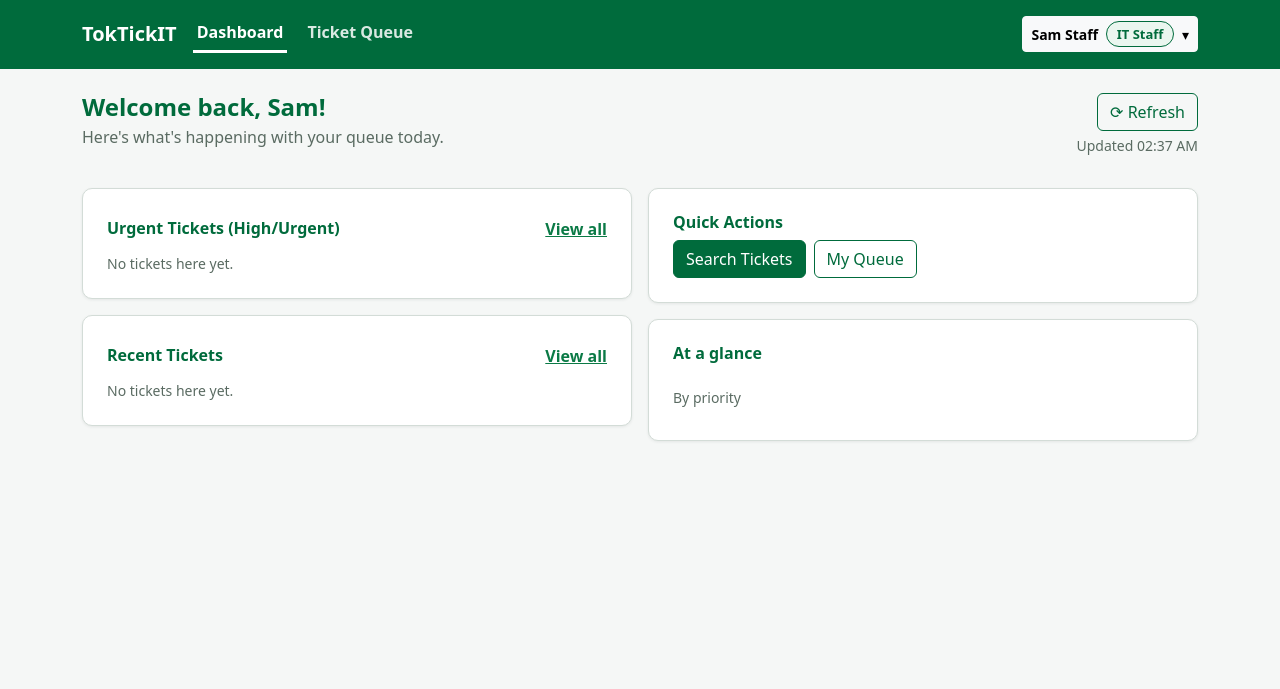
UI-27 — ownership controls (AC-34–AC-37) › claims the ticket and reflects the new owner
Click the button "Ticket Queue" at point(360, 34), box top-left (303, 16), bottom-right (417, 53)
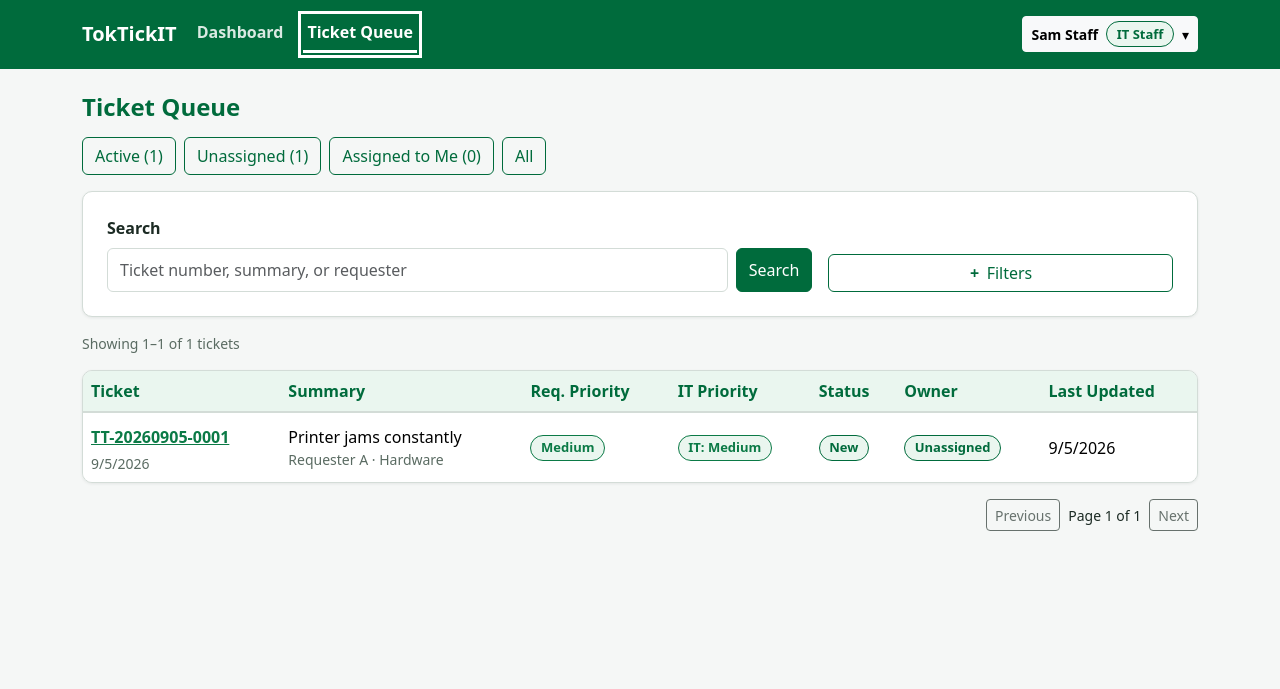
Click the button "TT-20260905-0001" at point(160, 437), box top-left (91, 421), bottom-right (229, 453)
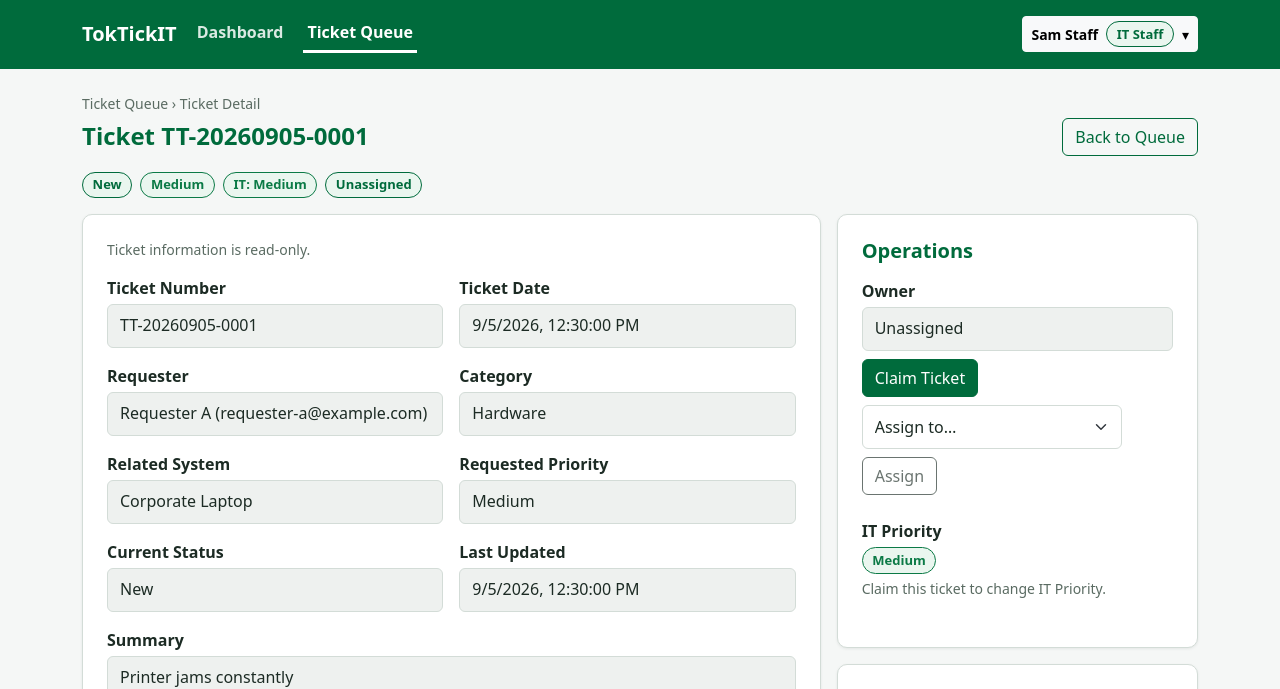
Expected: the text "TT-20260905-0001" is shown, top-left (107, 304), bottom-right (443, 348)
Click the button "Claim Ticket" at point(920, 378), box top-left (862, 359), bottom-right (978, 397)
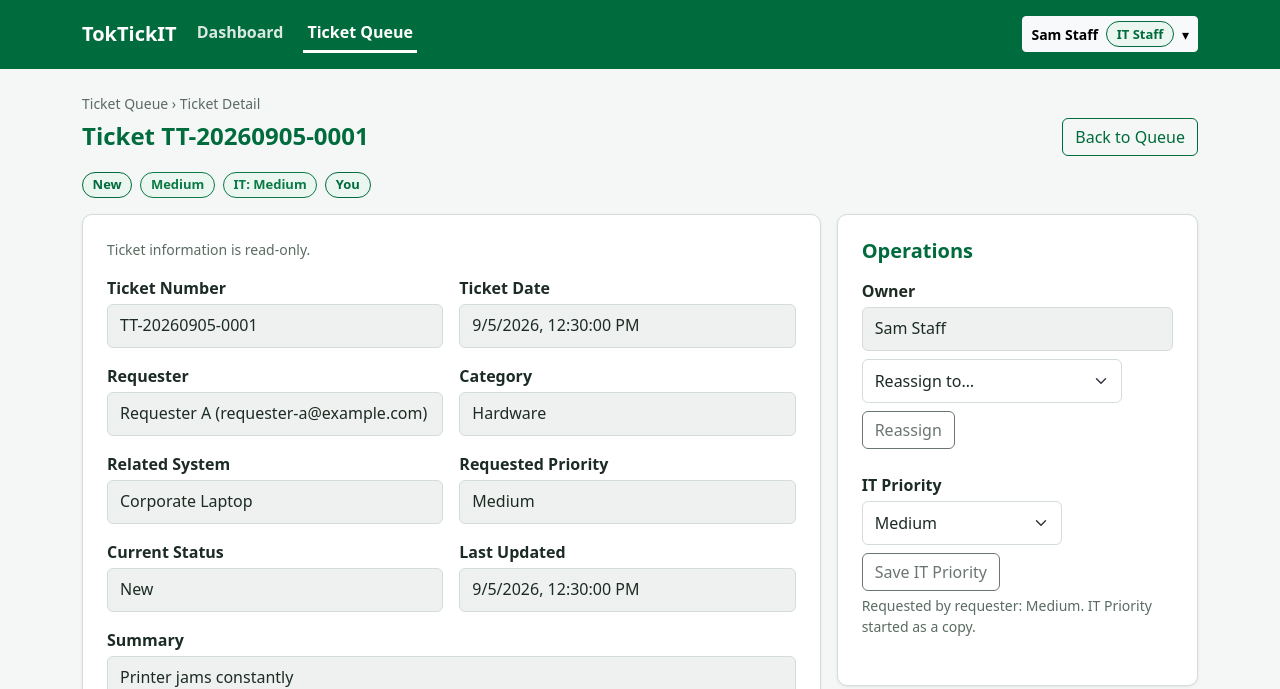
Expected: the button "Save IT Priority" is shown, top-left (862, 553), bottom-right (1000, 591)
Expected: the text "You" is shown, top-left (325, 172), bottom-right (371, 198)
